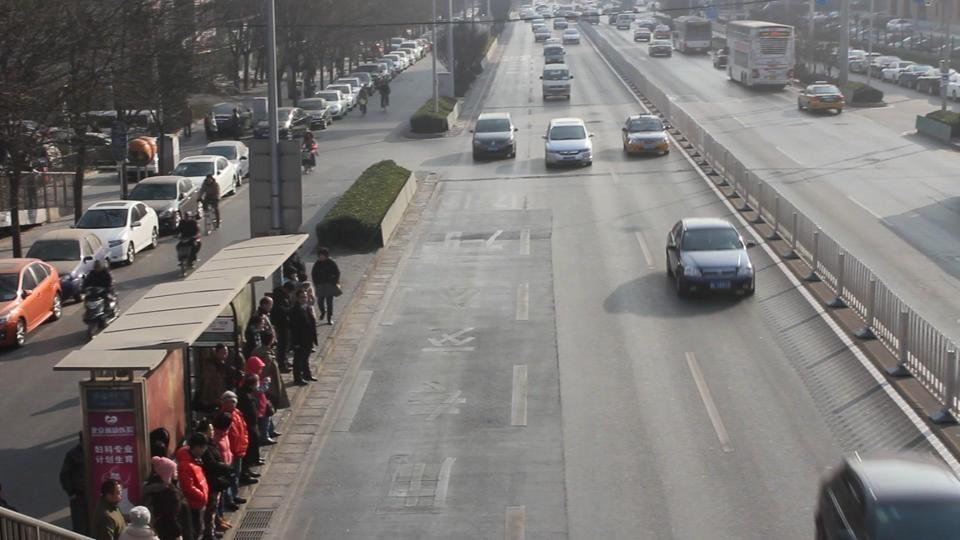car: (813, 451, 959, 537), (27, 215, 159, 283), (664, 217, 756, 299), (23, 229, 112, 299), (0, 257, 64, 351), (72, 200, 159, 268), (126, 176, 202, 235), (172, 154, 241, 196), (543, 117, 594, 168), (471, 113, 518, 161), (621, 114, 671, 158), (202, 142, 249, 182), (205, 101, 252, 139), (796, 82, 846, 116), (297, 95, 343, 126), (540, 65, 574, 103), (312, 90, 352, 120), (648, 27, 674, 57), (632, 19, 656, 42), (543, 43, 566, 64), (562, 28, 581, 45)
